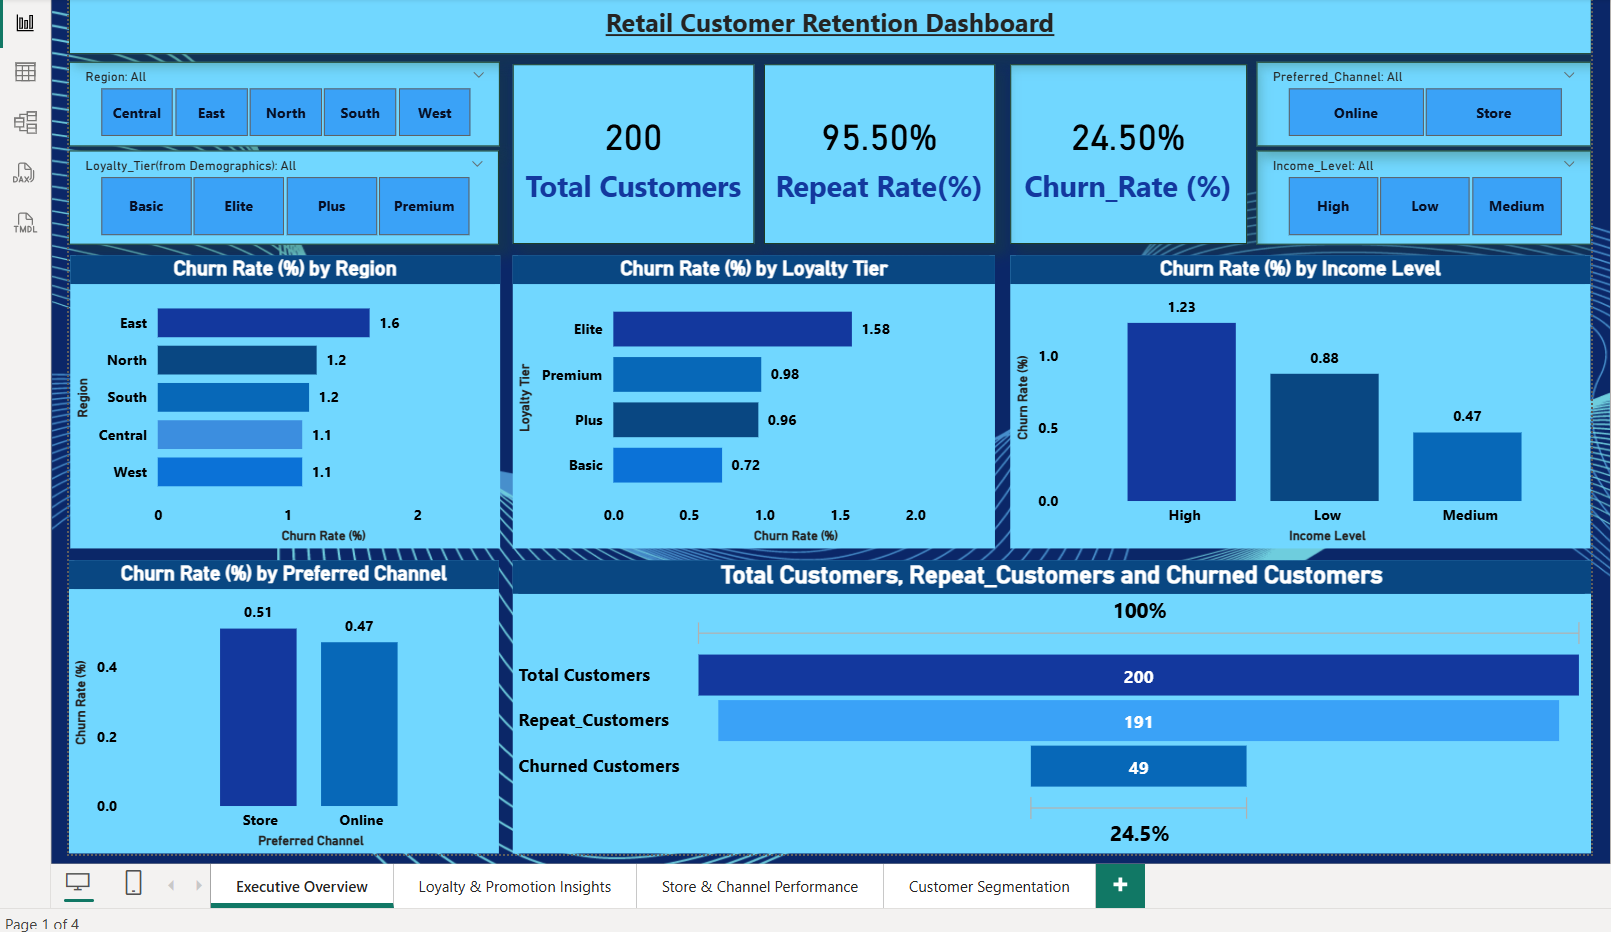

What the dashboard file says about the page in this screenshot:
{"tool":"powerbi","page":{"name":"Executive Overview","canvas":[1280,720],"ordinal":0},"visuals":[{"type":"slicer","fields":{"Values":["Customer_Demographics.Region"]},"box":[0,53.5,362.8,70.9],"z":0},{"type":"slicer","fields":{"Values":["Customer_Demographics.Loyalty_Tier(from Demographics)"]},"box":[0,127.9,361.6,79.1],"z":1000},{"type":"slicer","fields":{"Values":["Customer_Demographics.Income_Level"]},"box":[998.8,127.9,281.4,79.1],"z":2000},{"type":"slicer","fields":{"Values":["Customer_Demographics.Preferred_Channel"]},"box":[998.8,53.5,281.4,70.9],"z":3000},{"type":"card","fields":{"Values":["Measures_Table.Churn_Rate (%)"]},"box":[791.9,55.8,198.8,151.2],"z":4000},{"type":"textbox","box":[0,0,1280.6,47.3],"z":5000},{"type":"card","fields":{"Values":["Measures_Table.Total Customers"]},"box":[373.3,55.8,203.5,151.2],"z":6000},{"type":"card","fields":{"Values":["Measures_Table.Repeat Rate(%)"]},"box":[584.9,55.8,194.2,151.2],"z":7000},{"type":"clusteredBarChart","fields":{"Category":["Customer_Demographics.Region"],"Y":["Measures_Table.Churn_Rate (%)"]},"box":[1.2,216.3,361.6,246.5],"z":8000},{"type":"clusteredColumnChart","fields":{"Category":["Customer_Demographics.Preferred_Channel"],"Y":["Measures Table.Churn_Rate (%)"]},"box":[0,473.3,361.6,246.5],"z":9000},{"type":"clusteredColumnChart","fields":{"Category":["Customer_Demographics.Income_Level"],"Y":["Measures Table.Churn_Rate (%)"]},"box":[791.9,216.3,488.4,246.5],"z":10000},{"type":"clusteredBarChart","fields":{"Category":["Loyalty_Program.Loyalty_Tier"],"Y":["Measures Table.Churn_Rate (%)"]},"box":[373.3,216.3,405.8,246.5],"z":11000},{"type":"funnel","fields":{"Y":["Measures Table.Total Customers","Measures_Table.Repeat_Customers","Measures_Table.Churned Customers"]},"box":[373.3,473.3,907,246.5],"z":12000}]}

Visuals, with their boxes in screenshot pixels (x1, y1, x2, y2):
slicer - Customer_Demographics.Region: (59,60,493,145)
slicer - Customer_Demographics.Loyalty_Tier(from Demographics): (59,149,492,244)
slicer - Customer_Demographics.Income_Level: (1254,149,1591,244)
slicer - Customer_Demographics.Preferred_Channel: (1254,60,1591,145)
card - Measures_Table.Churn_Rate (%): (1007,63,1245,244)
textbox: (59,0,1592,52)
card - Measures_Table.Total Customers: (506,63,749,244)
card - Measures_Table.Repeat Rate(%): (759,63,991,244)
clusteredBarChart - Customer_Demographics.Region x Measures_Table.Churn_Rate (%): (60,255,493,550)
clusteredColumnChart - Customer_Demographics.Preferred_Channel x Measures Table.Churn_Rate (%): (59,562,492,858)
clusteredColumnChart - Customer_Demographics.Income_Level x Measures Table.Churn_Rate (%): (1007,255,1591,550)
clusteredBarChart - Loyalty_Program.Loyalty_Tier x Measures Table.Churn_Rate (%): (506,255,991,550)
funnel - Measures Table.Total Customers x Measures_Table.Repeat_Customers: (506,562,1591,858)
